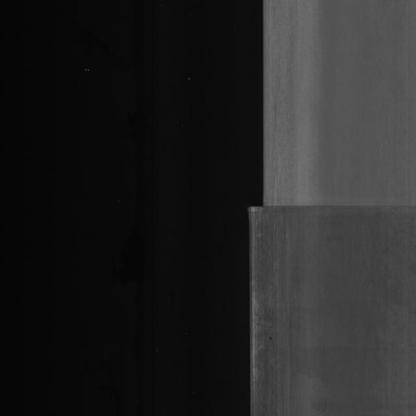welding_line: (242, 188, 416, 222)
